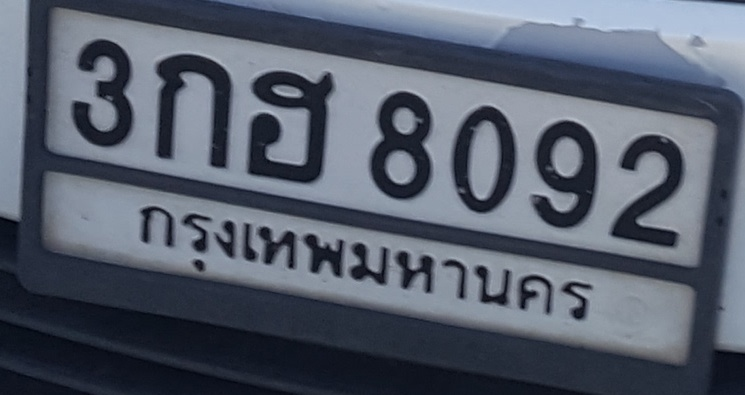num3: (69, 37, 139, 151)
txt01: (146, 47, 237, 174)
txt39: (243, 63, 338, 188)
